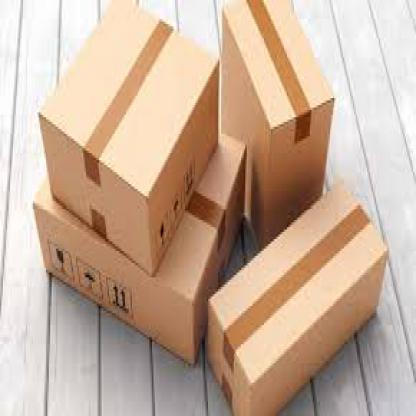paquete: (195, 175, 405, 414), (34, 2, 221, 263), (26, 141, 238, 368), (200, 2, 338, 256)
